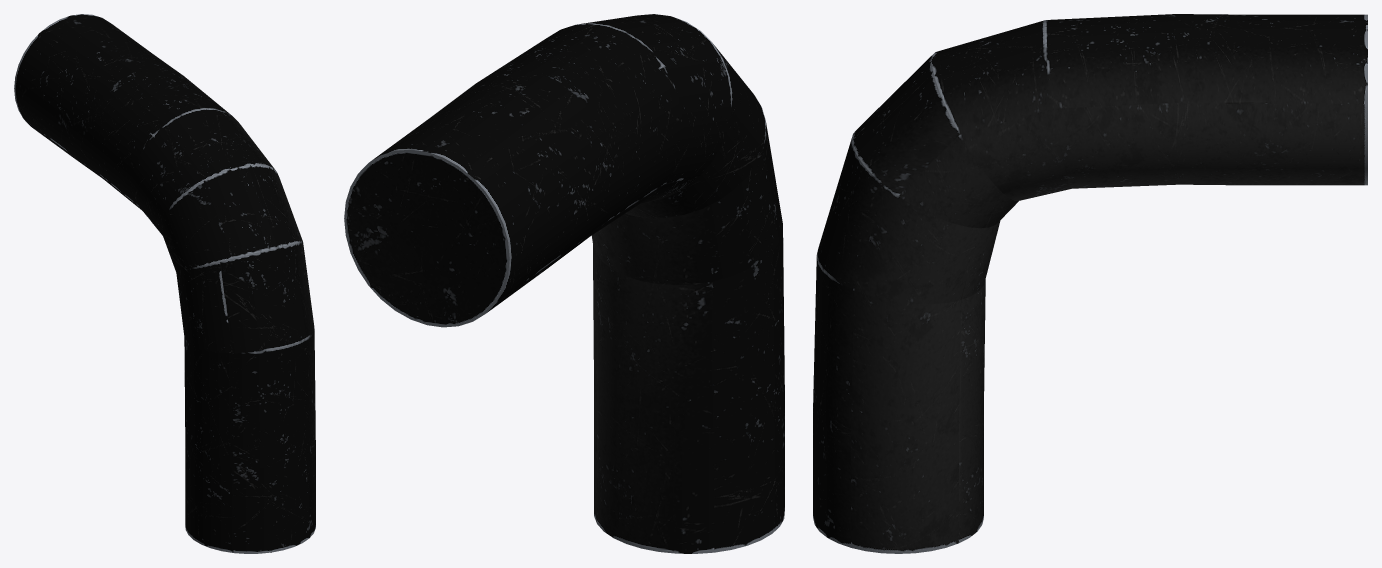
Rendered from Pipe.fbx.
3 renders of one model, left to right at view 1: azimuth 30°, elevation 25°; view 2: azimuth 150°, elevation 25°; view 3: azimuth 270°, elevation 25°, orthographic. The views are drawn at different scales.
Visible parts, largest first — view 1: Cylinder; view 2: Cylinder; view 3: Cylinder.
Boxes of the visible parts, box(x1,y1,x2,y2) form: Cylinder: box(14, 14, 315, 553); Cylinder: box(344, 14, 784, 553); Cylinder: box(813, 14, 1367, 553).
Size of the model in its own units: 38.15 by 122 by 124.
Materials: 1 (1 with a texture image).
